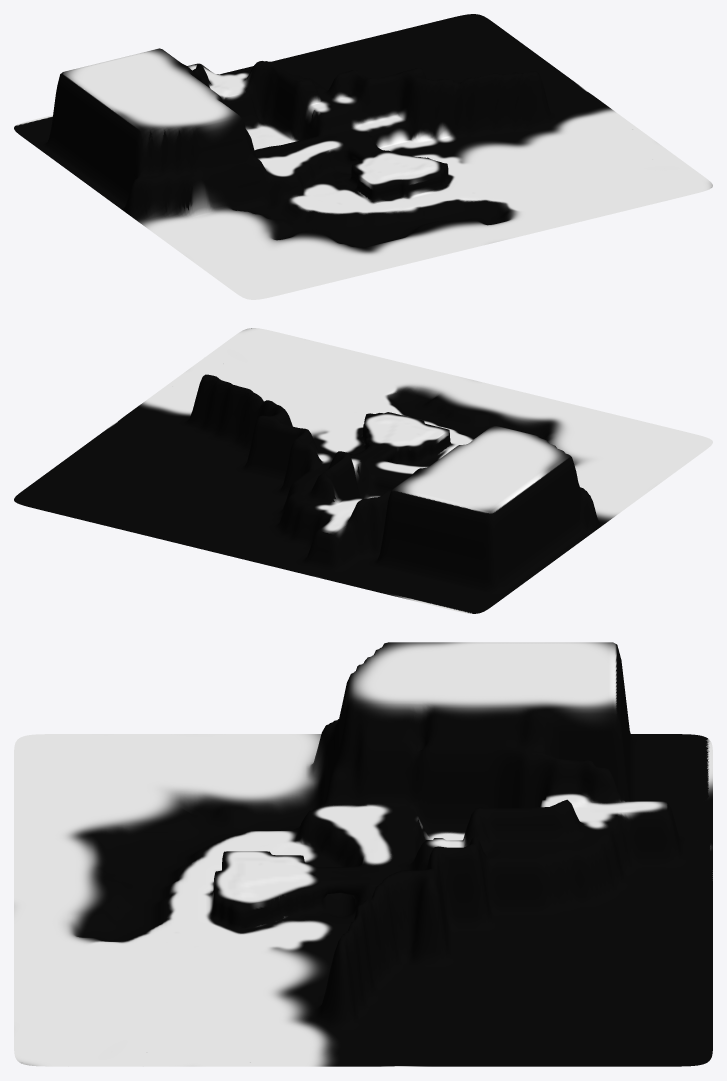
Rendered from TerrainHub_test.fbx.
3 renders of one model, top to bottom at view 1: azimuth 30°, elevation 25°; view 2: azimuth 150°, elevation 25°; view 3: azimuth 270°, elevation 25°, orthographic. The views are drawn at different scales.
Parts seen in each view (by area): view 1: Plane; view 2: Plane; view 3: Plane.
Part boxes in pixels (x1,y1,x2,y2): Plane: [14, 14, 712, 299]; Plane: [14, 328, 712, 613]; Plane: [14, 642, 712, 1066].
Bounding box in the file's own units: 10589 × 1760 × 9406.
